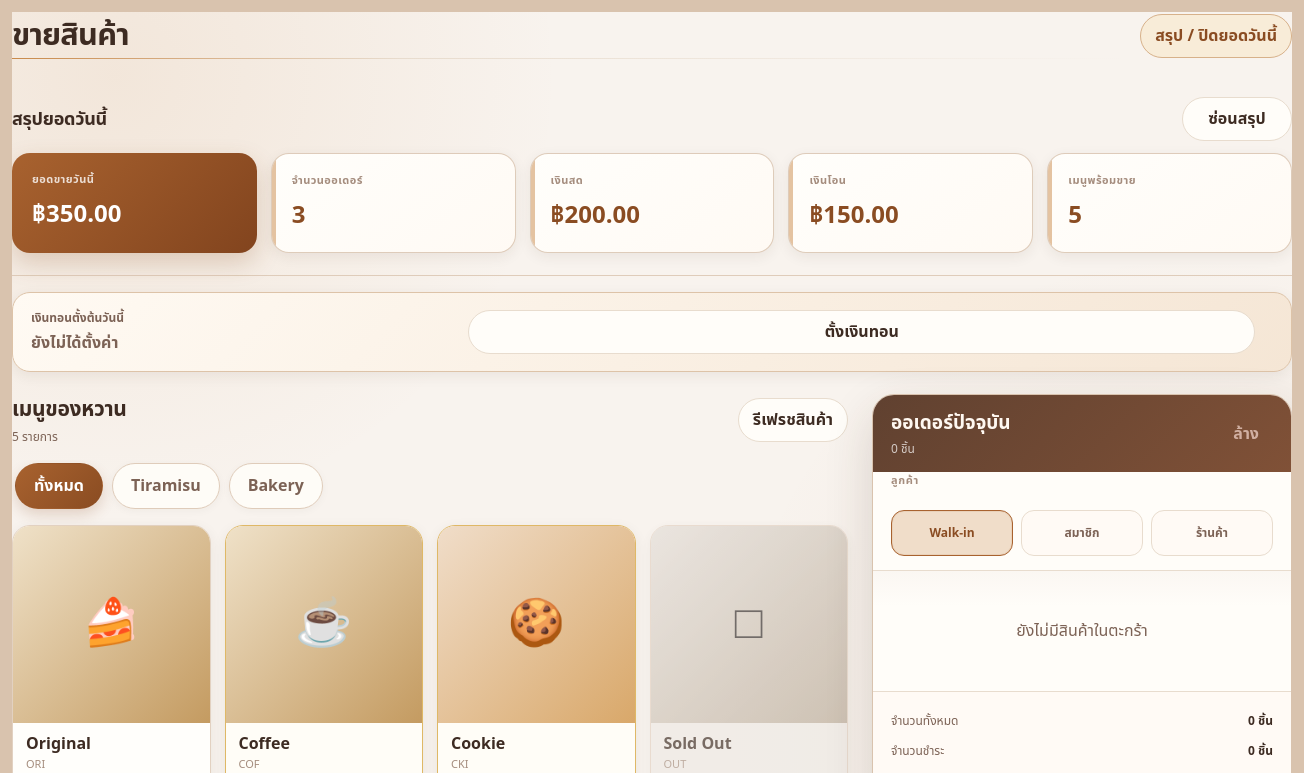
Test case: SellPage › filters products by category and exposes the selected tab state
This screenshot has width=1304, height=773.
Step 1. Click the tab "Bakery" → (276, 486), box [229,463,323,509]
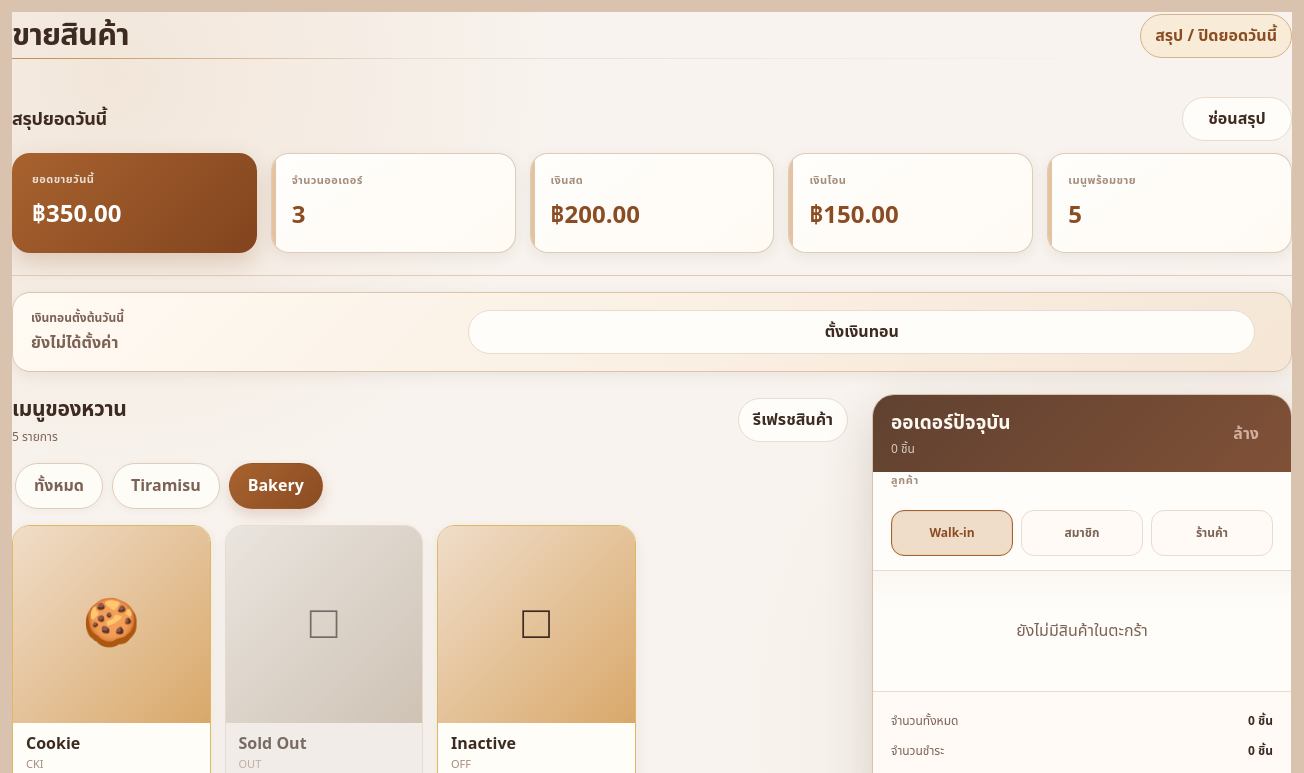
Check: the text "Cookie" is shown, box [26,732,80,756]
Check: the button "Original" is gone
